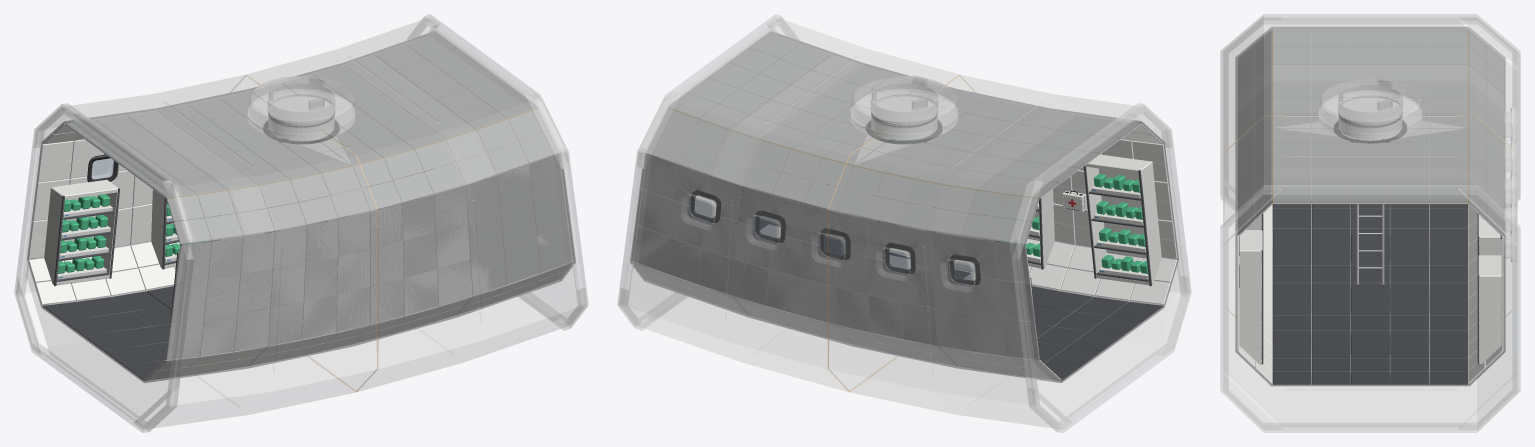
The model's file is ax_grav_07_ring_greenhouse_combined.glb.
The picture shows the model from 3 angles, left to right: view 1: azimuth 30°, elevation 25°; view 2: azimuth 150°, elevation 25°; view 3: azimuth 270°, elevation 25°; orthographic projection. The views are drawn at different scales.
Parts seen in each view (by area): view 1: ext_hull, pressure_vessel, ext_end_flanges, ext_spoke_port, rack_7_carcass, ext_spoke_port_pedestal, ext_hatch_door_1, hatch_door_1, panel_b23_f00, panel_b23_f08, panel_b23_f06, panel_b22_f00 (+134 smaller); view 2: ext_hull, pressure_vessel, ext_end_flanges, ext_spoke_port, rack_8_carcass, ext_window_glass, ext_spoke_port_pedestal, ext_hatch_door_1, hatch_door_1, panel_b9_f06, panel_b9_f00, panel_b9_f04 (+135 smaller); view 3: ext_hull, pressure_vessel, ext_end_flanges, ext_spoke_port, rack_2_carcass, rack_1_carcass, ext_spoke_port_pedestal, ext_hatch_door_1, hatch_door_1, floor_tile_14, floor_tile_38, floor_tile_02 (+123 smaller).
Part boxes in pixels (x1,y1,x2,y2): ext_hull: (16,17,586,429); pressure_vessel: (27,31,575,382); ext_end_flanges: (14,14,588,432); ext_spoke_port: (249,76,353,133); rack_7_carcass: (44,179,118,285); ext_spoke_port_pedestal: (248,89,354,140); ext_hatch_door_1: (268,94,334,123); hatch_door_1: (268,96,334,125); panel_b23_f00: (166,318,203,359); panel_b23_f08: (437,260,472,305); panel_b23_f06: (370,279,403,323); panel_b22_f00: (171,280,207,321); ext_hull: (619,17,1189,429); pressure_vessel: (630,31,1178,382); ext_end_flanges: (617,14,1191,432); ext_spoke_port: (852,76,956,133); rack_8_carcass: (1085,154,1161,285); ext_window_glass: (687,196,973,285); ext_spoke_port_pedestal: (851,89,957,140); ext_hatch_door_1: (871,94,937,123); hatch_door_1: (871,96,937,125); panel_b9_f06: (801,279,835,323); panel_b9_f00: (1002,318,1039,359); panel_b9_f04: (869,295,903,338); ext_hull: (1223,17,1517,429); pressure_vessel: (1235,27,1505,386); ext_end_flanges: (1220,14,1520,432); ext_spoke_port: (1320,78,1420,132); rack_2_carcass: (1239,230,1262,364); rack_1_carcass: (1478,255,1501,364); ext_spoke_port_pedestal: (1319,90,1421,139); ext_hatch_door_1: (1338,95,1402,124); hatch_door_1: (1339,97,1401,125); floor_tile_14: (1312,208,1350,228); floor_tile_38: (1390,208,1428,228); floor_tile_02: (1273,208,1311,228).
Bounding box in the file's own units: 7.52 × 4.41 × 4.74.
